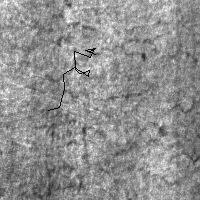crazing: (27, 16, 167, 65), (27, 46, 149, 101), (48, 48, 95, 110)
